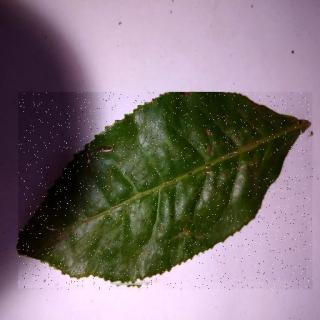Bird Eye Spot: (19, 93, 314, 291)
